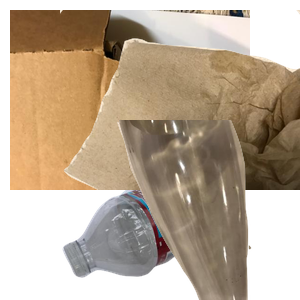cardboard: (10, 10, 250, 190)
glass: (115, 120, 300, 300)
plastic: (60, 190, 300, 280)
trash: (60, 10, 300, 190)
